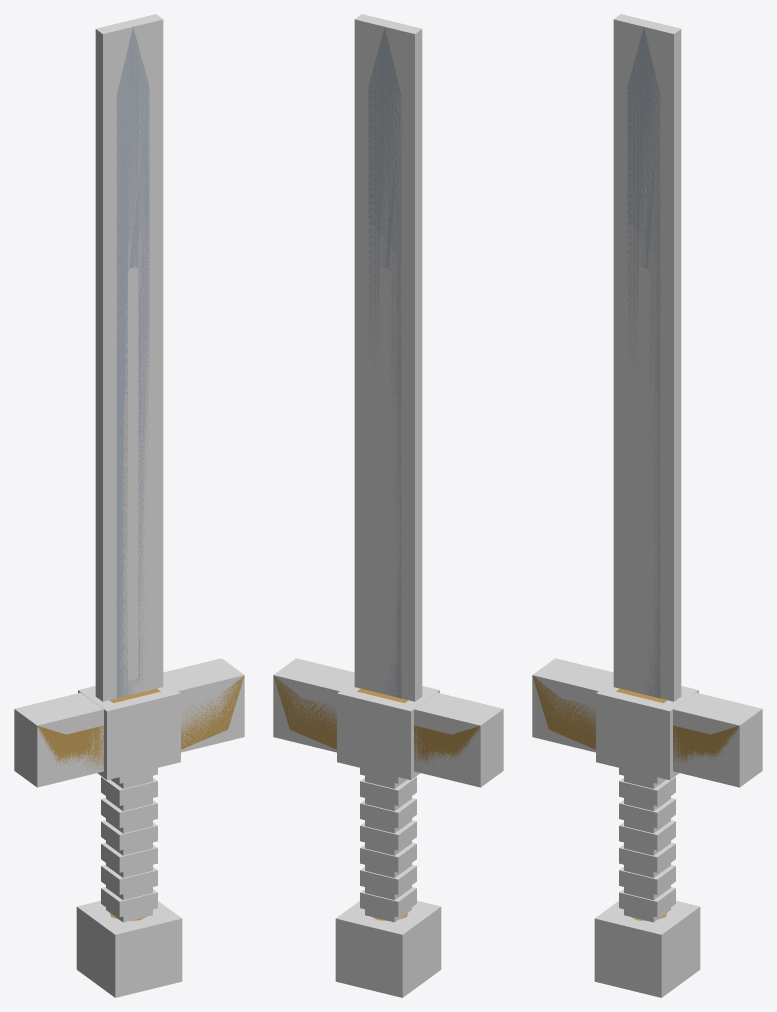
Rendered from fantasy_longsword.glb.
3 renders of one model, left to right at view 1: azimuth 30°, elevation 25°; view 2: azimuth 150°, elevation 25°; view 3: azimuth 330°, elevation 25°, orthographic.
Parts seen in each view (by area): view 1: COL_fantasy_longsword_11, blade, COL_fantasy_longsword_09, COL_fantasy_longsword_00, COL_fantasy_longsword_10, guard, COL_fantasy_longsword_01, COL_fantasy_longsword_04, COL_fantasy_longsword_05, COL_fantasy_longsword_06, COL_fantasy_longsword_02, COL_fantasy_longsword_03 (+1 smaller); view 2: COL_fantasy_longsword_11, COL_fantasy_longsword_09, blade, COL_fantasy_longsword_00, COL_fantasy_longsword_10, guard, COL_fantasy_longsword_01, COL_fantasy_longsword_04, COL_fantasy_longsword_05, COL_fantasy_longsword_06, COL_fantasy_longsword_02, COL_fantasy_longsword_03 (+1 smaller); view 3: COL_fantasy_longsword_11, blade, COL_fantasy_longsword_09, COL_fantasy_longsword_00, COL_fantasy_longsword_10, guard, COL_fantasy_longsword_01, COL_fantasy_longsword_04, COL_fantasy_longsword_05, COL_fantasy_longsword_06, COL_fantasy_longsword_02, COL_fantasy_longsword_03 (+1 smaller).
Boxes of the visible parts, bbox=[...] form: COL_fantasy_longsword_11: bbox=[95, 14, 163, 701]; blade: bbox=[116, 27, 149, 698]; COL_fantasy_longsword_09: bbox=[14, 658, 244, 787]; COL_fantasy_longsword_00: bbox=[76, 900, 182, 997]; COL_fantasy_longsword_10: bbox=[78, 680, 180, 779]; guard: bbox=[37, 676, 244, 769]; COL_fantasy_longsword_01: bbox=[106, 776, 152, 922]; COL_fantasy_longsword_04: bbox=[101, 842, 157, 872]; COL_fantasy_longsword_05: bbox=[101, 820, 157, 850]; COL_fantasy_longsword_06: bbox=[101, 798, 157, 828]; COL_fantasy_longsword_02: bbox=[101, 887, 157, 917]; COL_fantasy_longsword_03: bbox=[101, 864, 157, 894]; COL_fantasy_longsword_11: bbox=[354, 14, 422, 701]; COL_fantasy_longsword_09: bbox=[273, 658, 503, 787]; blade: bbox=[368, 27, 401, 698]; COL_fantasy_longsword_00: bbox=[335, 900, 441, 997]; COL_fantasy_longsword_10: bbox=[337, 680, 439, 779]; guard: bbox=[273, 675, 480, 762]; COL_fantasy_longsword_01: bbox=[365, 776, 411, 922]; COL_fantasy_longsword_04: bbox=[360, 842, 416, 872]; COL_fantasy_longsword_05: bbox=[360, 820, 416, 850]; COL_fantasy_longsword_06: bbox=[360, 798, 416, 828]; COL_fantasy_longsword_02: bbox=[360, 887, 416, 917]; COL_fantasy_longsword_03: bbox=[360, 864, 416, 894]; COL_fantasy_longsword_11: bbox=[613, 14, 681, 701]; blade: bbox=[627, 27, 660, 698]; COL_fantasy_longsword_09: bbox=[532, 658, 762, 787]; COL_fantasy_longsword_00: bbox=[594, 900, 700, 997]; COL_fantasy_longsword_10: bbox=[596, 680, 698, 779]; guard: bbox=[532, 676, 739, 762]; COL_fantasy_longsword_01: bbox=[624, 776, 670, 922]; COL_fantasy_longsword_04: bbox=[619, 842, 675, 872]; COL_fantasy_longsword_05: bbox=[619, 820, 675, 850]; COL_fantasy_longsword_06: bbox=[619, 798, 675, 828]; COL_fantasy_longsword_02: bbox=[619, 887, 675, 917]; COL_fantasy_longsword_03: bbox=[619, 864, 675, 894].
Bounding box in the file's own units: 0.26 × 1.14 × 0.084.
